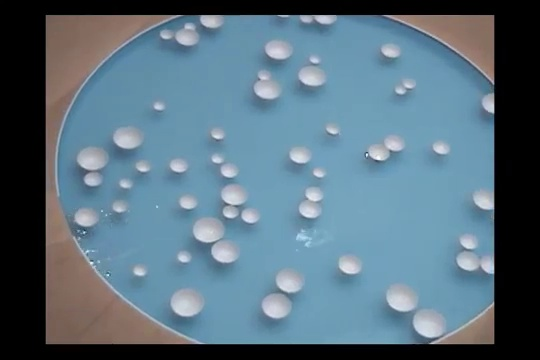bowl: (169, 286, 205, 317), (384, 280, 420, 311), (411, 308, 448, 337), (192, 217, 229, 244), (260, 291, 294, 319), (74, 146, 112, 171), (274, 266, 307, 293), (111, 125, 145, 149), (211, 238, 241, 264), (263, 38, 295, 59), (221, 182, 247, 207), (455, 249, 482, 273), (252, 80, 284, 100), (298, 66, 327, 87), (338, 253, 364, 276), (366, 142, 393, 163), (175, 27, 203, 47), (287, 145, 315, 165), (74, 206, 100, 227), (473, 185, 494, 211), (298, 200, 325, 220), (458, 229, 480, 250), (385, 133, 409, 152), (379, 40, 402, 59), (242, 205, 263, 225), (83, 171, 105, 189), (178, 194, 201, 211), (220, 203, 241, 221), (219, 162, 241, 179), (304, 185, 325, 202), (430, 139, 451, 156), (168, 158, 190, 174), (200, 15, 227, 28), (314, 14, 341, 27), (480, 251, 494, 276), (480, 91, 494, 115), (324, 121, 342, 139), (209, 126, 226, 143), (175, 249, 193, 265), (111, 198, 129, 213), (135, 159, 152, 174), (159, 27, 175, 42), (402, 76, 418, 91), (312, 165, 328, 180), (132, 263, 149, 277), (118, 176, 136, 189), (307, 52, 324, 65), (152, 100, 168, 113), (393, 84, 409, 97), (256, 70, 274, 81), (210, 151, 225, 164), (299, 15, 314, 24), (183, 21, 197, 30), (277, 12, 292, 19)
